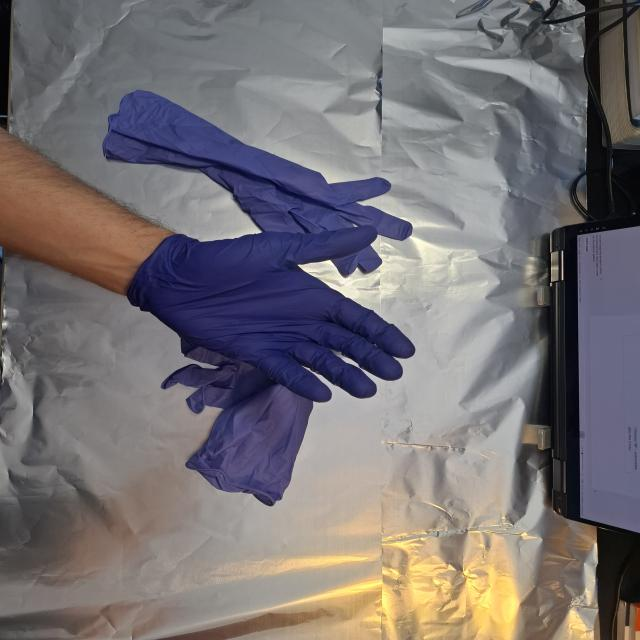glove_on: (125, 223, 417, 404)
